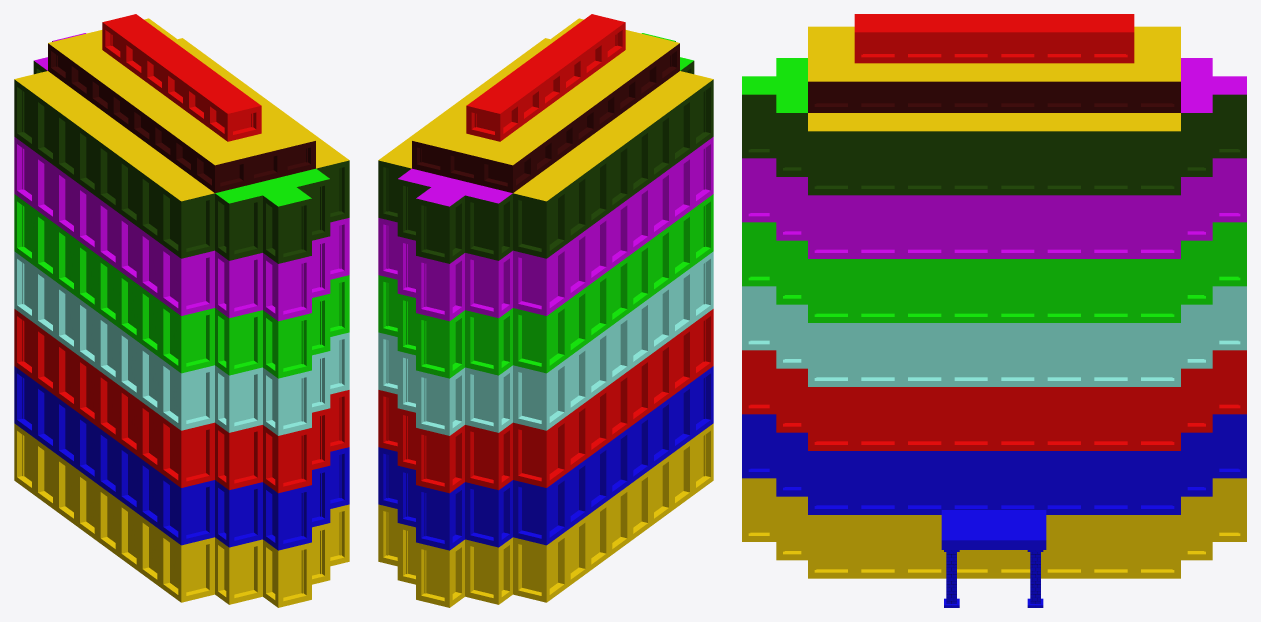
Rendered from building1.FBX.
3 renders of one model, left to right at view 1: azimuth 30°, elevation 25°; view 2: azimuth 150°, elevation 25°; view 3: azimuth 270°, elevation 25°, orthographic. The views are drawn at different scales.
Visible parts, largest first — view 1: Box001; view 2: Box001; view 3: Box001, Box002, Box003, Box004.
Boxes of the visible parts, bbox=[...] form: Box001: bbox=[14, 14, 349, 607]; Box001: bbox=[378, 14, 713, 607]; Box001: bbox=[742, 14, 1246, 578]; Box002: bbox=[941, 510, 1046, 549]; Box003: bbox=[1027, 550, 1043, 607]; Box004: bbox=[944, 550, 959, 607].
Bounding box in the file's own units: 328 × 639 × 573.
